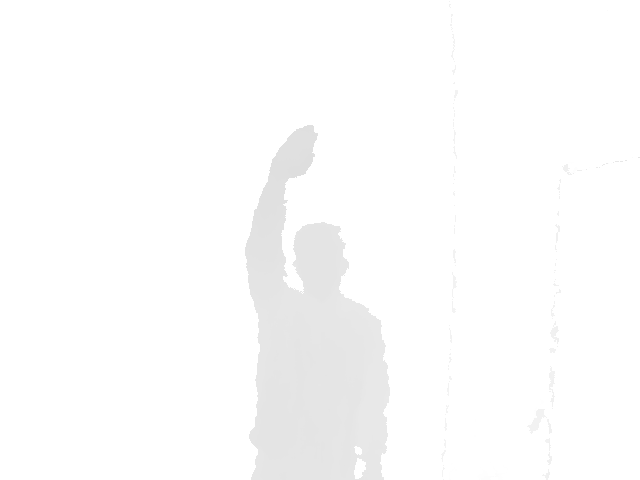hand: (267, 123, 320, 179)
head: (293, 221, 350, 291)
person: (243, 123, 391, 480)
